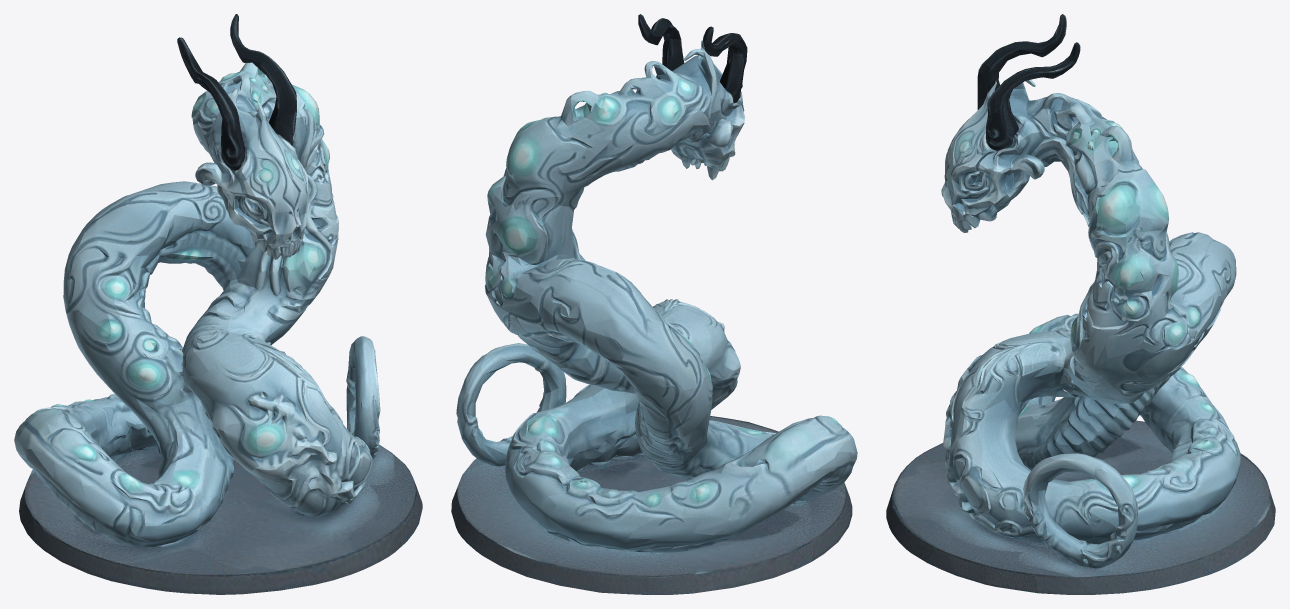
The model's file is basilisk.glb.
3 renders of one model, left to right at view 1: azimuth 30°, elevation 25°; view 2: azimuth 150°, elevation 25°; view 3: azimuth 270°, elevation 25°, orthographic. The views are drawn at different scales.
Parts seen in each view (by area): view 1: output_unwrapped; view 2: output_unwrapped; view 3: output_unwrapped.
Part boxes in pixels (x1,y1,x2,y2): output_unwrapped: (14,14,422,594); output_unwrapped: (451,14,857,594); output_unwrapped: (886,14,1275,594).
Size of the model in its own units: 1.47 by 1.9 by 1.41.
1 material, 1 textured.
